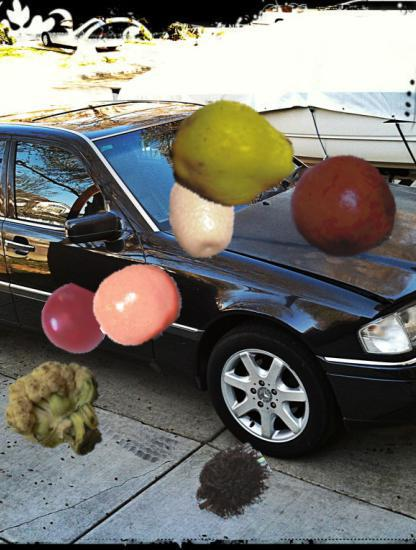Cauliflower: (3, 359, 108, 464)
Clementine: (93, 260, 183, 350)
Kumquats: (156, 168, 248, 260)
Pomegranate: (284, 149, 400, 265)
Quince: (165, 89, 297, 221)
Rambutan: (192, 443, 273, 524)
Redcurrant: (41, 285, 110, 354)
